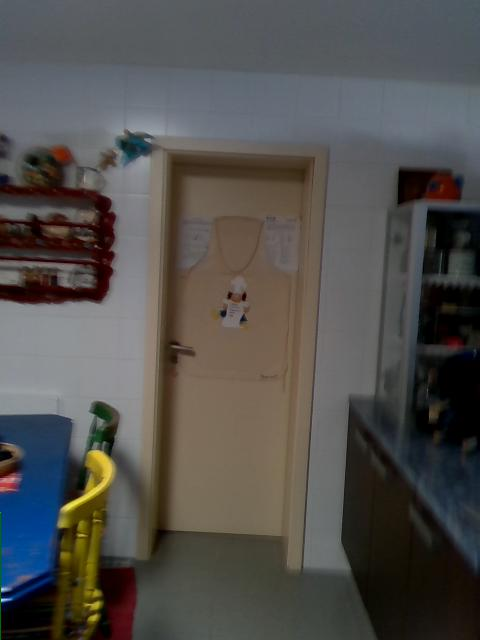closed_door: (133, 135, 327, 572)
